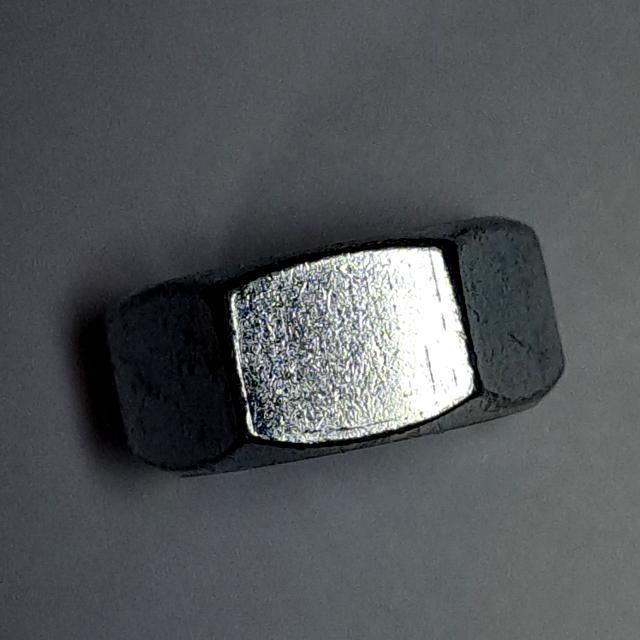Side_Excellent: (90, 197, 577, 499)
